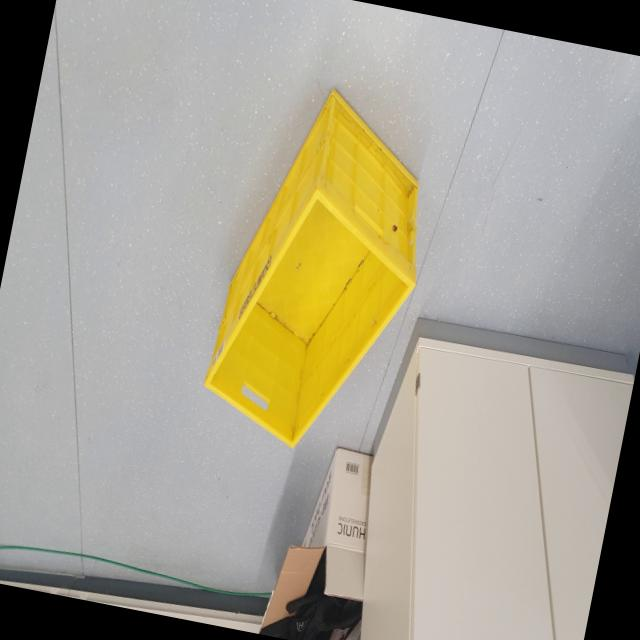box: (190, 61, 457, 481)
